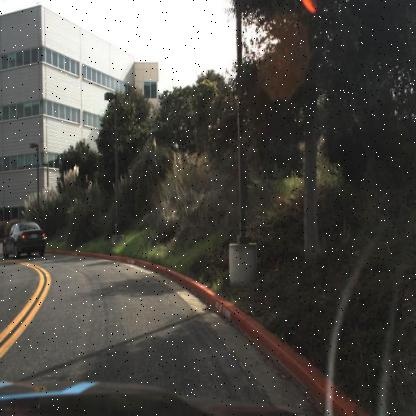car: (1, 218, 49, 259)
